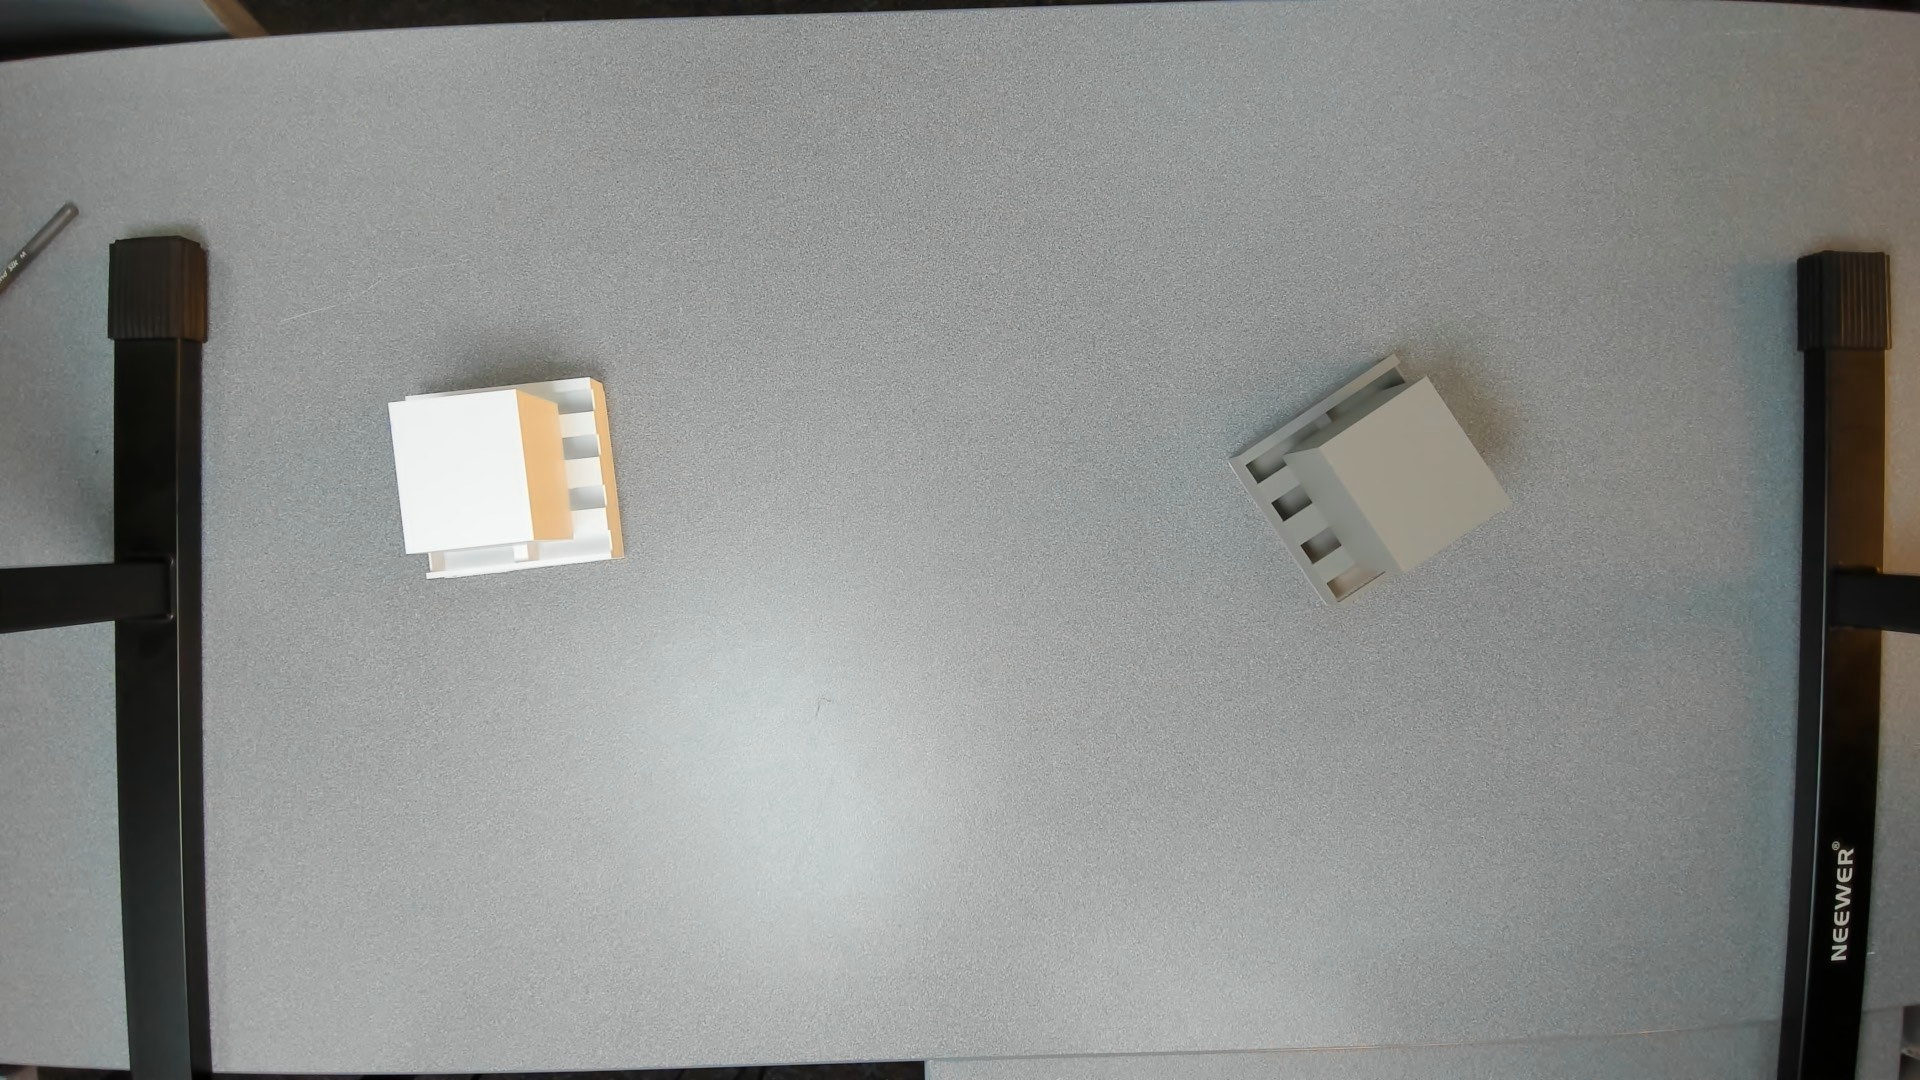grey pallet: (1222, 348, 1534, 622)
white pallet: (378, 369, 647, 592)
